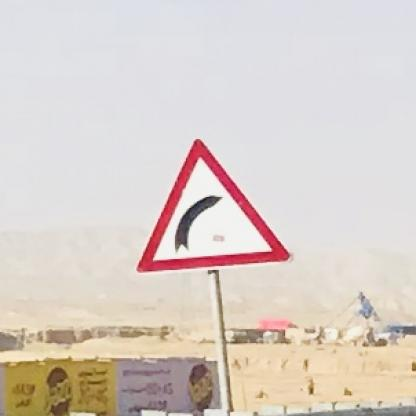Right bend: (132, 138, 292, 275)
